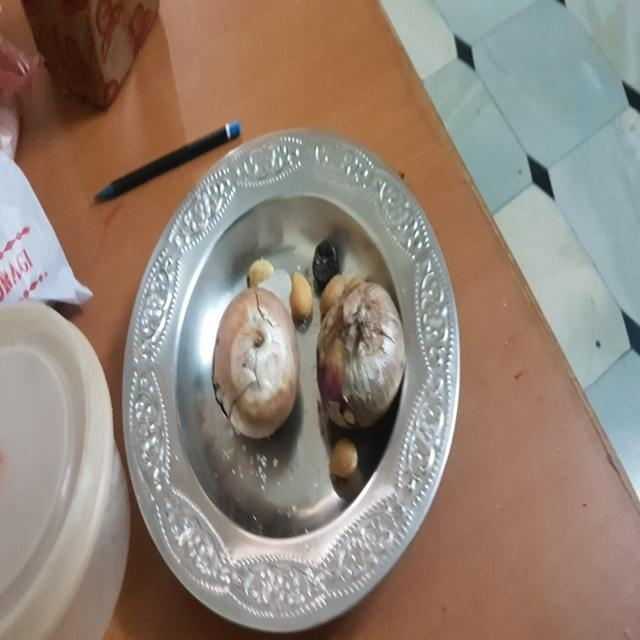onion: (208, 282, 305, 437), (315, 277, 412, 419)
